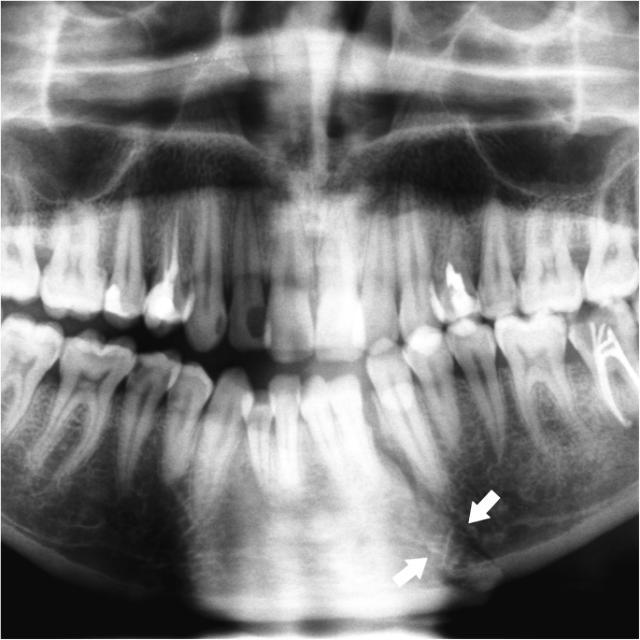Impact Fracture: (430, 502, 476, 562)
